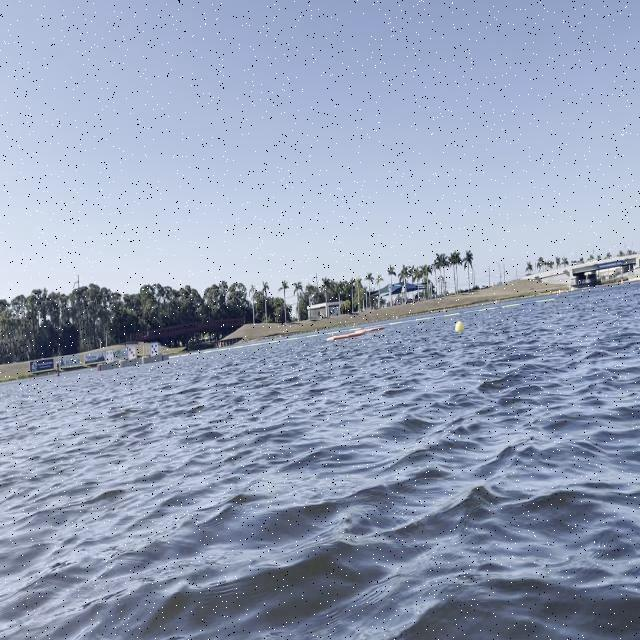buoy: (454, 316, 462, 334)
